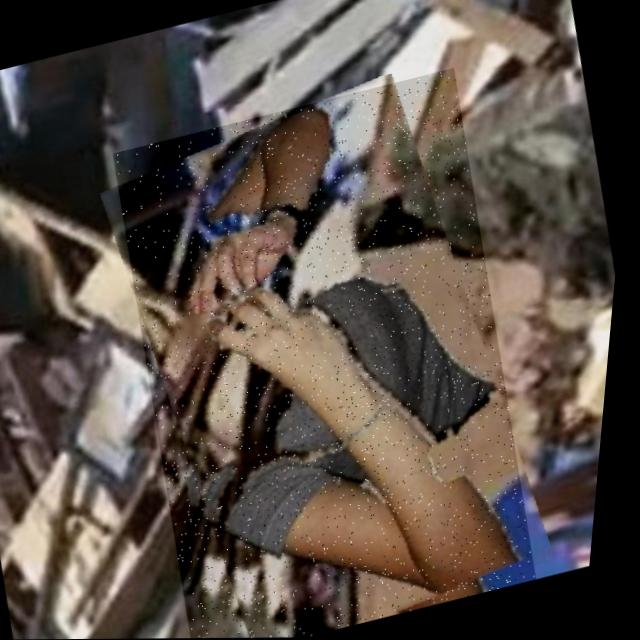Person in Rubble: (80, 66, 582, 639)
